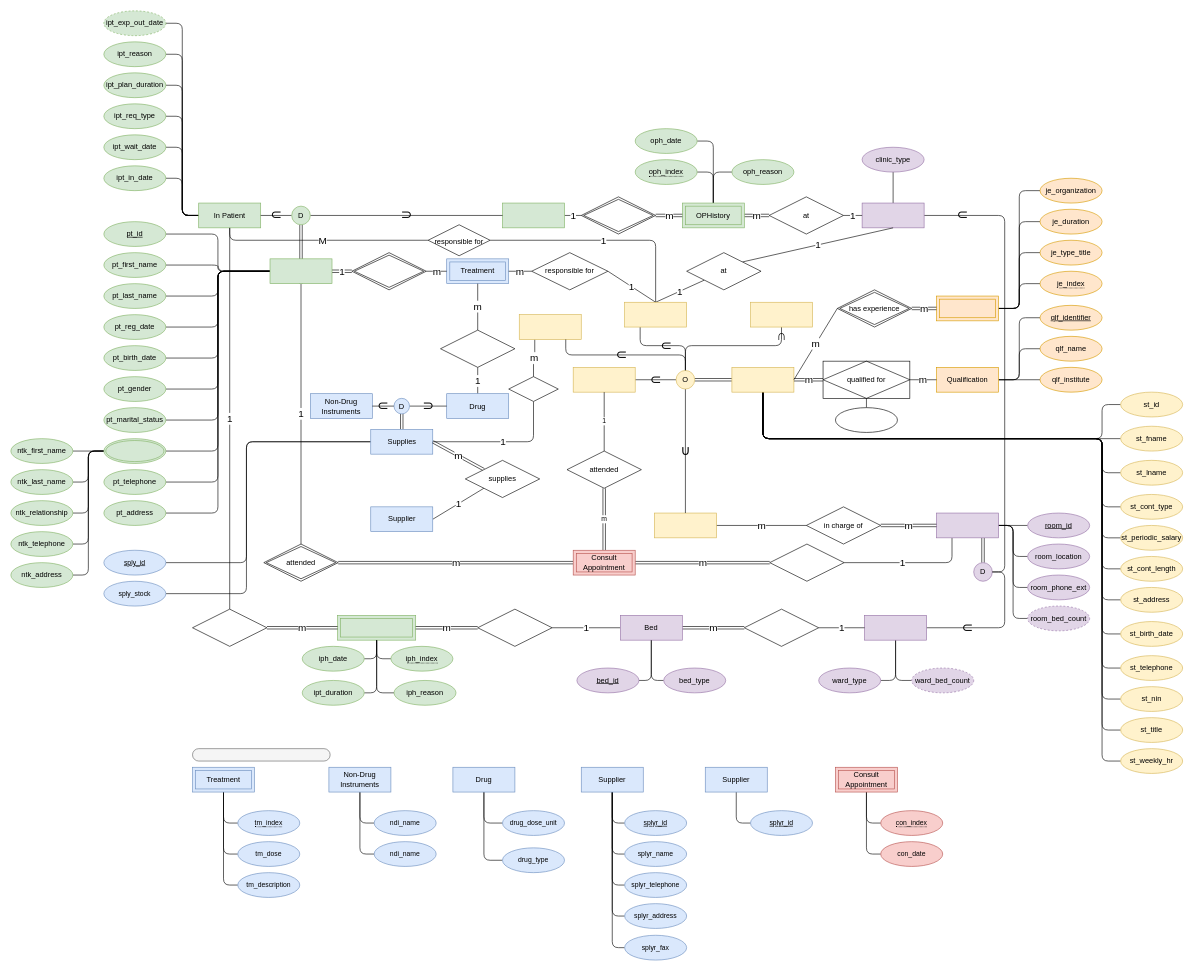
Image size: 1194x971. Some labels were removed from this diagram. Each missing label, with the centre of its shape:
"admitted" belongs at (x=514, y=627).
"attended to" belongs at (x=618, y=215).
"attendeds" belongs at (x=229, y=627).
"Consultant" belongs at (x=604, y=379).
"Doctor" belongs at (x=655, y=314).
"has bed" belongs at (x=781, y=627).
"IPHistory (including waiting list)" belongs at (x=376, y=627).
"Job Experience" belongs at (x=967, y=308).
"Medical director" belongs at (x=550, y=326).
"Nurse" belongs at (x=685, y=525).
"Other Attributes for Classes:" belongs at (x=261, y=754).
"Out Patient" belongs at (x=533, y=215).
"Out-Patient-Clinic" belongs at (x=892, y=215).
"Patient" belongs at (x=300, y=271).
"Personnel officer" belongs at (x=781, y=314).
"pt_ntk" belongs at (x=134, y=450).
"qlf_get_date" belongs at (x=866, y=419).
"responsible" belongs at (x=533, y=388).
"Room" belongs at (x=967, y=525).
"Staff" belongs at (x=762, y=379).
"take place in" belongs at (x=806, y=562).
"under-go" belongs at (x=388, y=271).
"used in" belongs at (x=477, y=348).
"Ward" belongs at (x=895, y=627).
